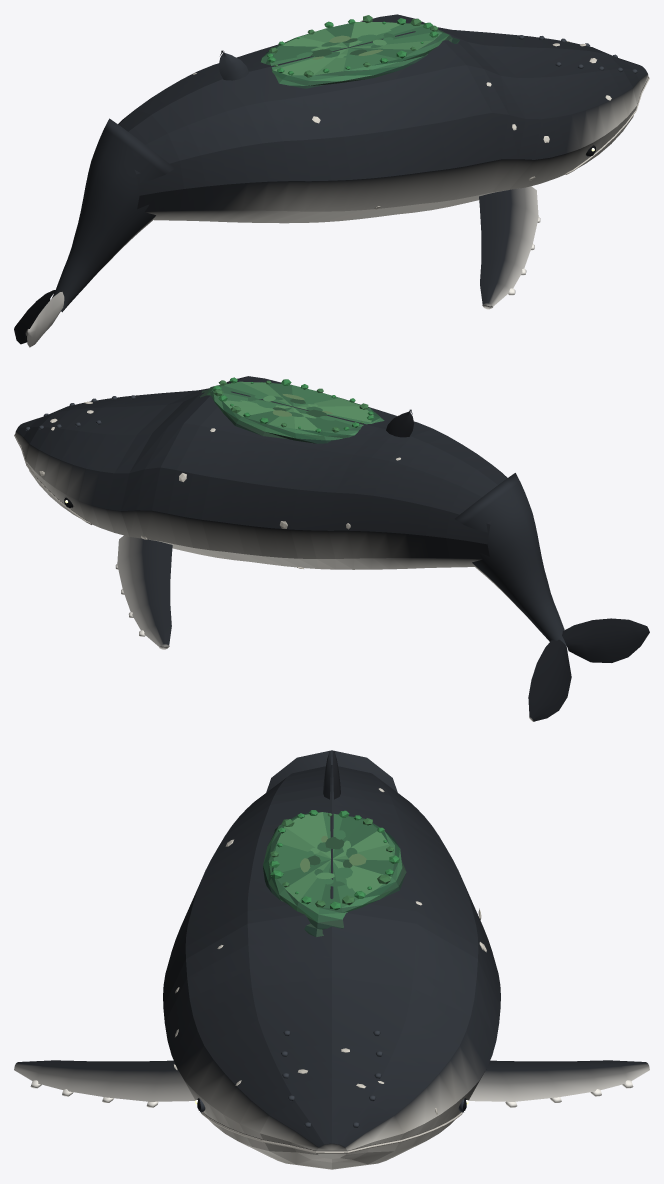
File: kun-battle-v1.glb
3 views of the same model, one above another, from view 1: azimuth 30°, elevation 25°; view 2: azimuth 150°, elevation 25°; view 3: azimuth 270°, elevation 25° (orthographic). The views are drawn at different scales.
Parts seen in each view (by area): view 1: leviathan-body, leviathan-tail-stalk, leviathan-crust-plate, leviathan-pectoral-R, leviathan-fluke-R, leviathan-fluke-L, leviathan-dorsal; view 2: leviathan-body, leviathan-tail-stalk, leviathan-crust-plate, leviathan-pectoral-L, leviathan-fluke-R, leviathan-fluke-L, leviathan-dorsal; view 3: leviathan-body, leviathan-crust-plate, leviathan-pectoral-L, leviathan-pectoral-R, Kun lower jaw warm pale shell, leviathan-tail-stalk, Kun lower pale lip.
Part boxes in pixels (x1,y1,x2,y2): leviathan-body: [118, 14, 648, 223]; leviathan-tail-stalk: [51, 118, 174, 312]; leviathan-crust-plate: [260, 22, 459, 88]; leviathan-pectoral-R: [479, 186, 538, 309]; leviathan-fluke-R: [25, 292, 64, 347]; leviathan-fluke-L: [14, 290, 55, 344]; leviathan-dorsal: [218, 50, 248, 80]; leviathan-body: [15, 376, 507, 569]; leviathan-tail-stalk: [455, 473, 566, 646]; leviathan-crust-plate: [199, 381, 384, 443]; leviathan-pectoral-L: [117, 535, 172, 649]; leviathan-fluke-R: [562, 618, 649, 662]; leviathan-fluke-L: [528, 639, 571, 721]; leviathan-dorsal: [386, 409, 413, 437]; leviathan-body: [163, 765, 500, 1150]; leviathan-crust-plate: [263, 812, 406, 936]; leviathan-pectoral-L: [468, 1060, 649, 1101]; leviathan-pectoral-R: [14, 1060, 195, 1101]; Kun lower jaw warm pale shell: [209, 1120, 454, 1169]; leviathan-tail-stalk: [266, 750, 397, 792]; Kun lower pale lip: [201, 1112, 463, 1153].
Size of the model in its own units: 47.45 by 18.75 by 33.13.
